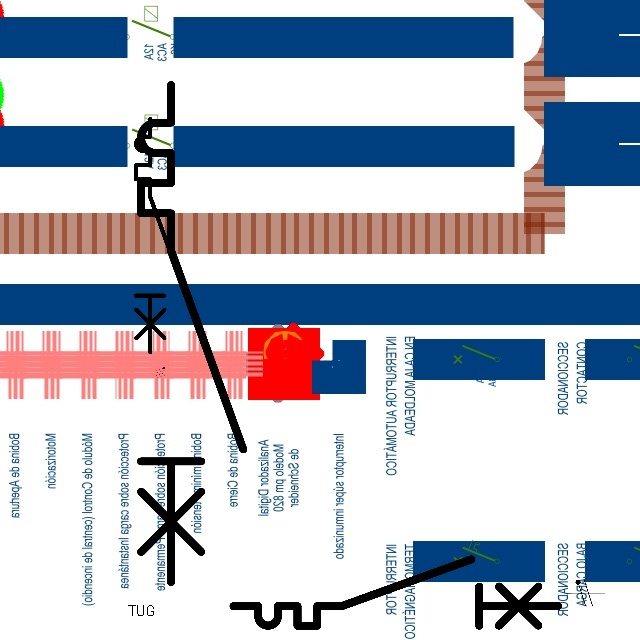interruptor_termomagnetico: (128, 72, 256, 595), (225, 551, 567, 634), (130, 113, 190, 358)
